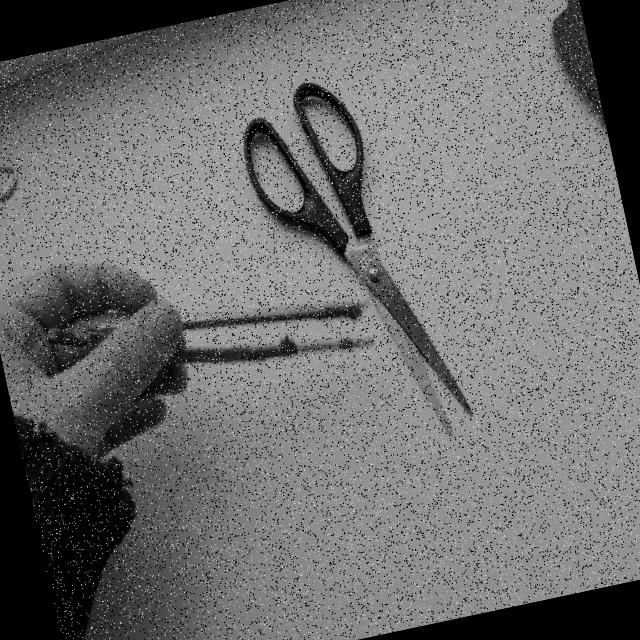scissors: (226, 52, 485, 451)
